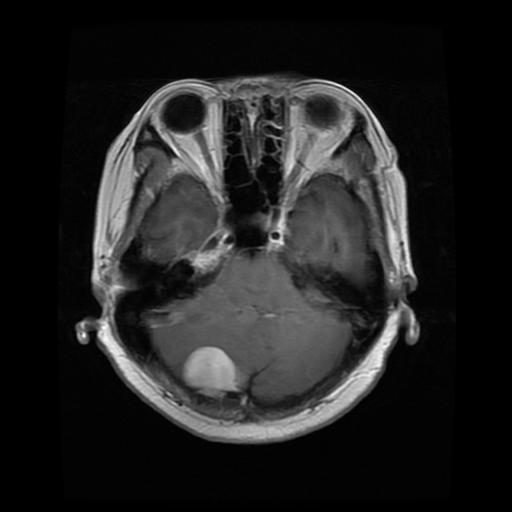Menigiomia_tumour: (182, 345, 236, 396)
